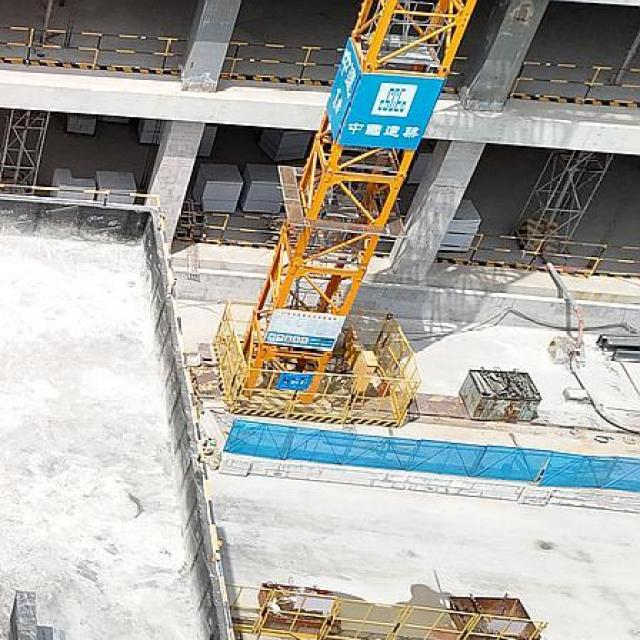edge_guardrail: (0, 183, 236, 640), (433, 229, 640, 278), (0, 24, 189, 75), (508, 60, 640, 105), (220, 40, 346, 86), (175, 210, 282, 246), (443, 55, 468, 91)
